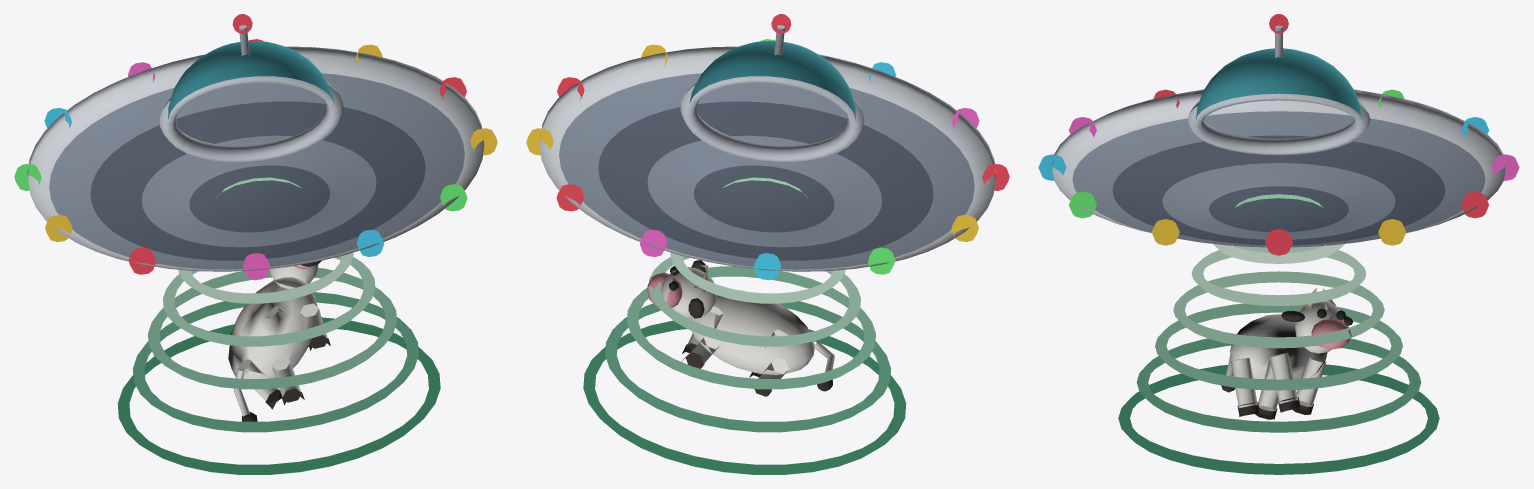
The model's file is ufo.glb.
3 views of the same model, side by side, from view 1: azimuth 30°, elevation 25°; view 2: azimuth 150°, elevation 25°; view 3: azimuth 270°, elevation 25° (orthographic).
Visible parts, largest first — view 1: ufo; view 2: ufo; view 3: ufo.
Part boxes in pixels (<box>): ufo: <box>14,14,497,474</box>; ufo: <box>526,14,1009,474</box>; ufo: <box>1038,14,1519,474</box>.
Size of the model in its own units: 2.88 by 2.68 by 2.89.
